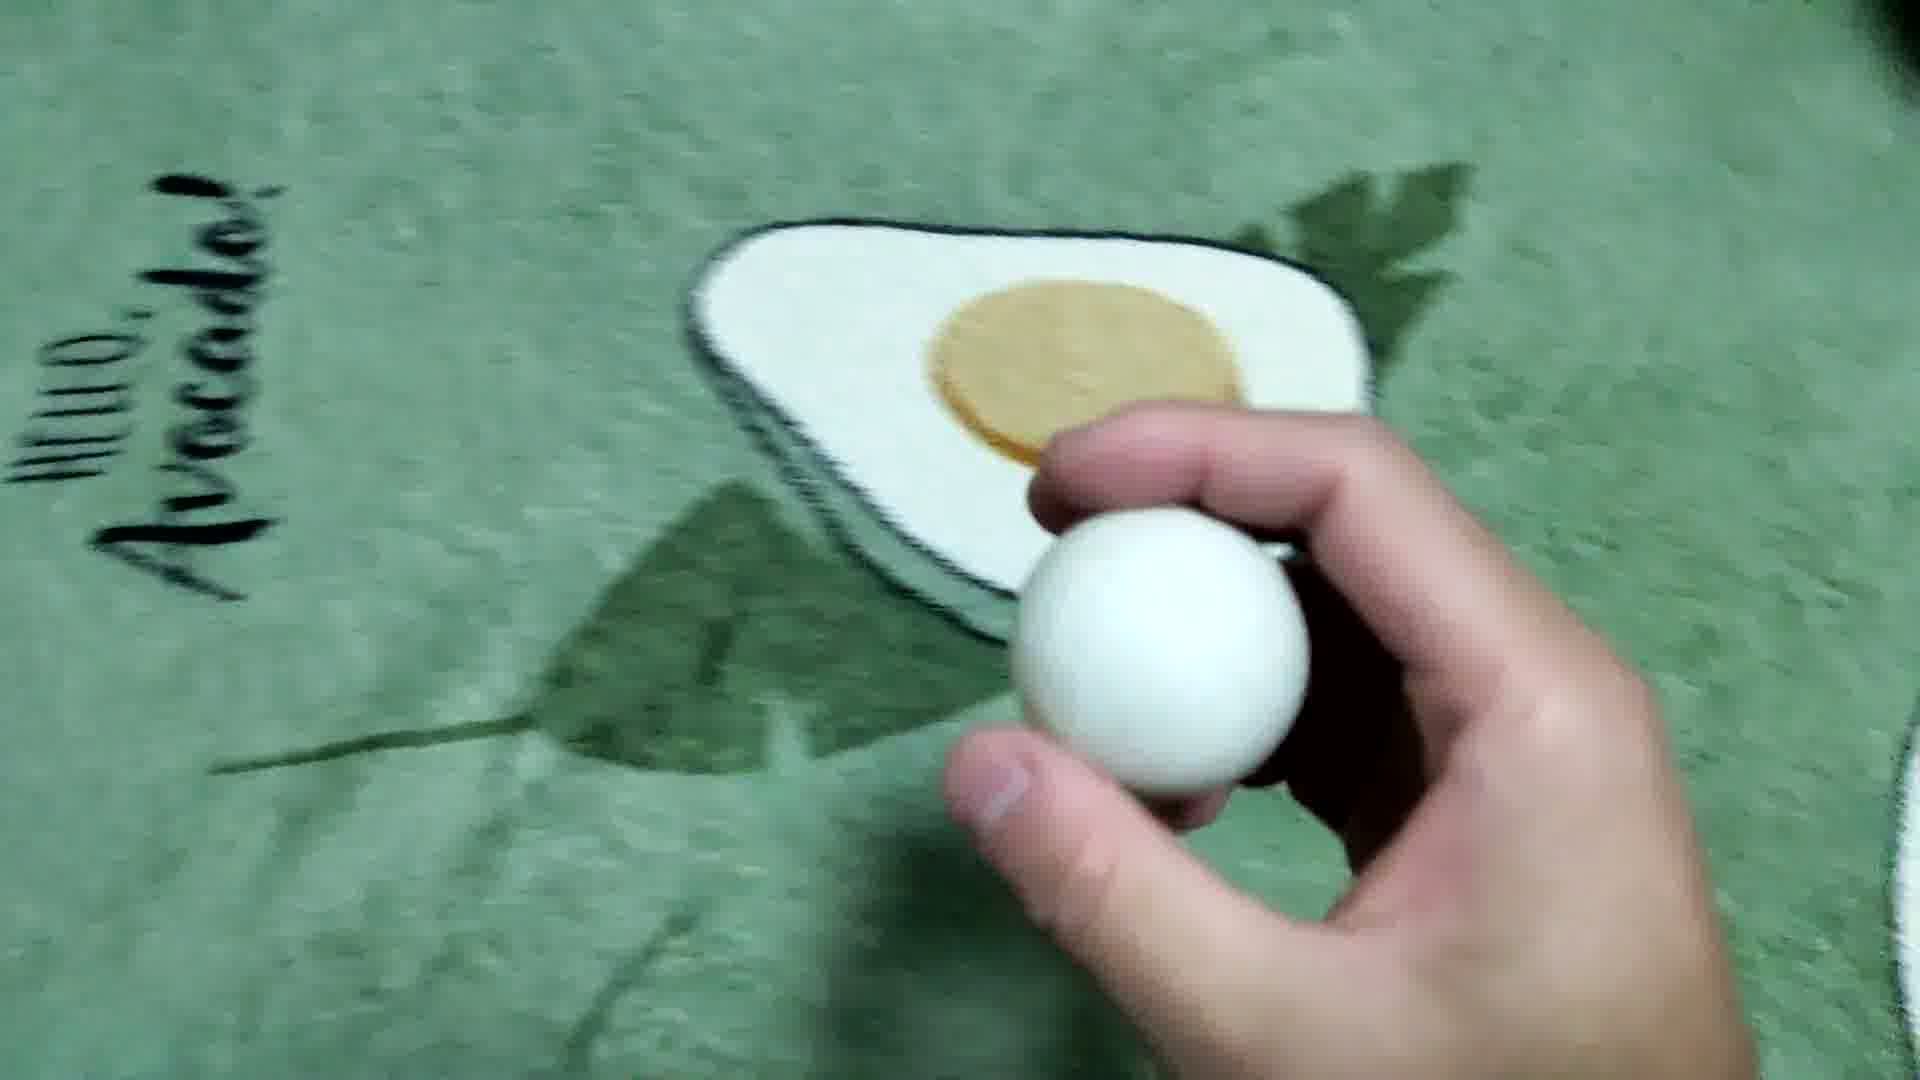Ball: (1021, 506, 1309, 798)
